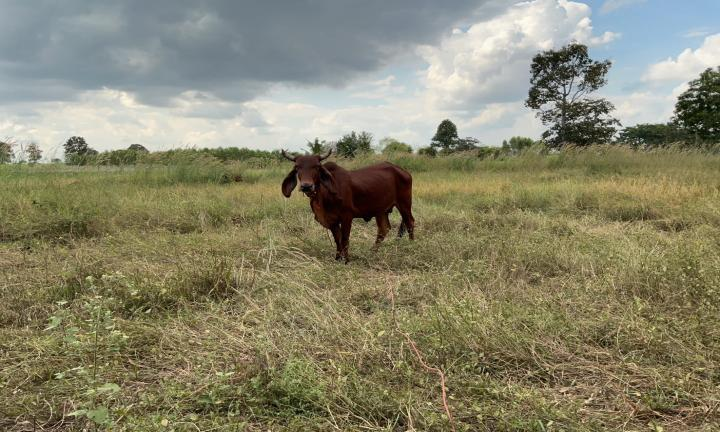Brahman: (281, 149, 414, 260)
